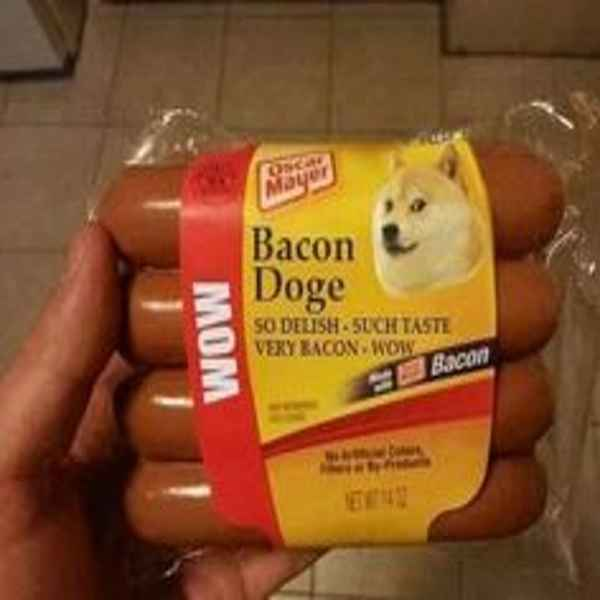doge: (369, 145, 487, 298)
